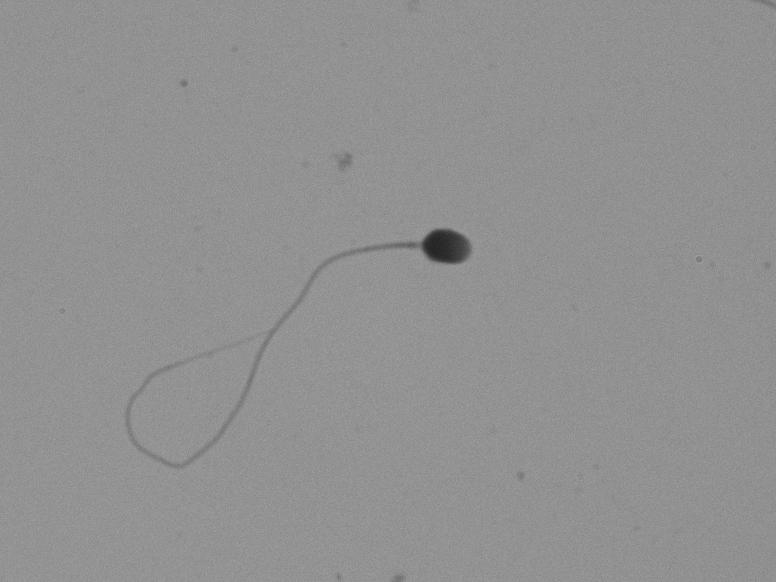Normal: (90, 186, 515, 484)
